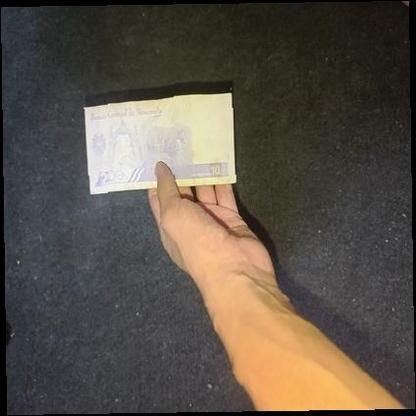ten-back-vef: (82, 93, 238, 194)
